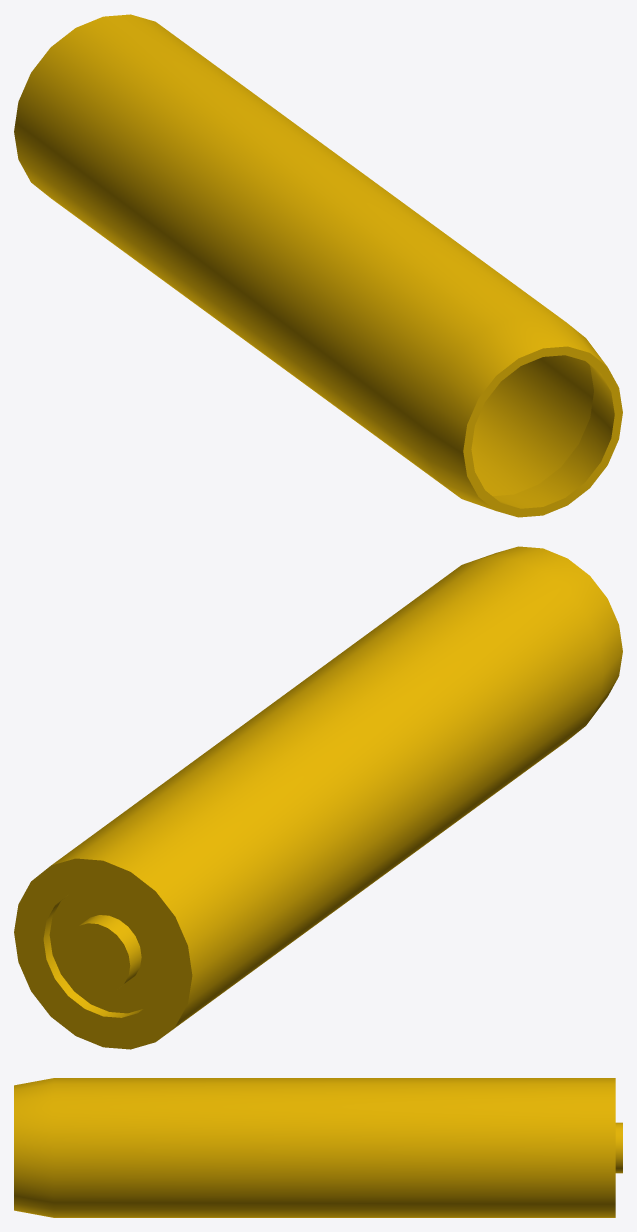
The model's file is casing meriam gede awal.fbx.
3 views of the same model, one above another, from view 1: azimuth 30°, elevation 25°; view 2: azimuth 150°, elevation 25°; view 3: azimuth 270°, elevation 25° (orthographic). The views are drawn at different scales.
Parts seen in each view (by area): view 1: Cylinder.002; view 2: Cylinder.002; view 3: Cylinder.002.
Part boxes in pixels (x1,y1,x2,y2): Cylinder.002: (14, 14, 622, 517); Cylinder.002: (14, 546, 622, 1049); Cylinder.002: (14, 1078, 622, 1217).
Bounding box in the file's own units: 0.1581 × 0.1581 × 0.6831.
